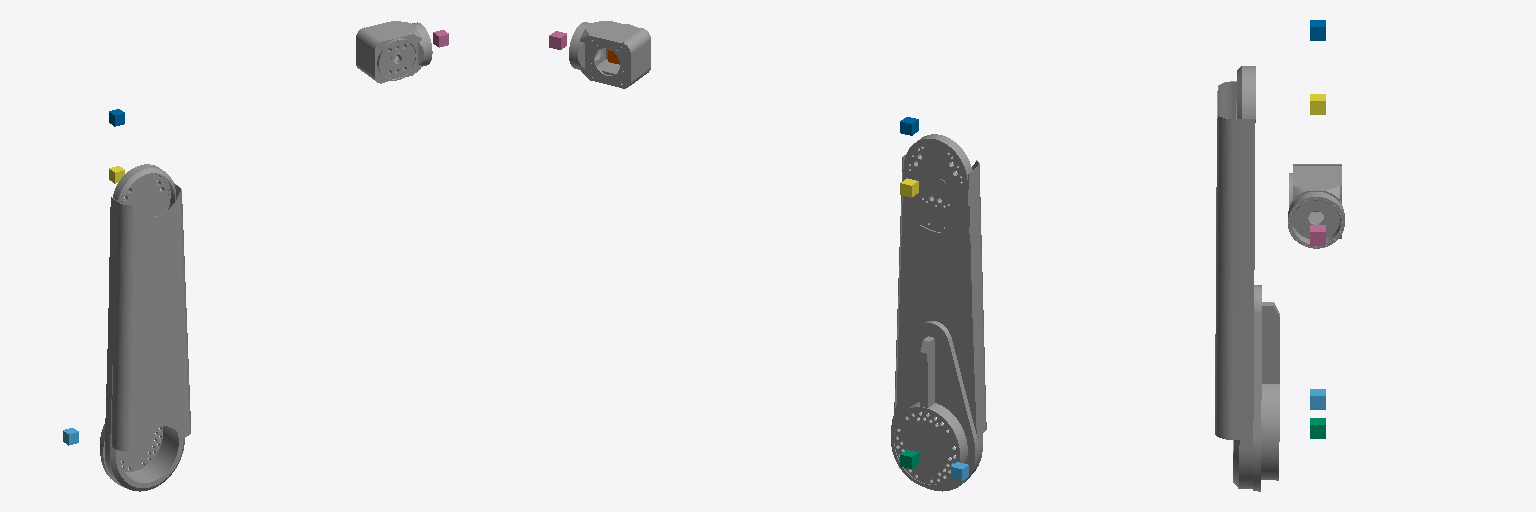
URDF robot description (SR80):
<?xml version="1.0"?>
<!-- created with Phobos 1.0.1 "Capricious Choutengan" -->
  <robot name="SR80">

    <link name="base_link">
     <!--  <inertial>
        <origin xyz="0 0 0" rpy="0 0 0"/>
        <mass value="0.001"/>
        <inertia ixx="0.001" ixy="0" ixz="0" iyy="0.001" iyz="0" izz="0.001"/>
      </inertial>-->
      <visual name="Part1">
        <origin xyz="0 0 0" rpy="0 0 0"/>
        <geometry>
          <mesh filename="package://sr80_description/meshes/dae/Part1.dae" scale="1.0 1.0 1.0"/>
        </geometry>
        <material name="Material"/>
      </visual>
      <visual name="Gear1">
        <origin xyz="0 0 0.2" rpy="0 0 0"/>
        <geometry>
          <mesh filename="package://sr80_description/meshes/dae/GearBox1.dae" scale="1.0 1.0 1.0"/>
        </geometry>
        <material name="Material"/>
      </visual>
      <collision name="Part1">
        <origin xyz="-0.00064 0 0.00217" rpy="0 0 0"/>
        <geometry>
          <box size="0.70858 0.59761 0.21675"/>
        </geometry>
      </collision>
    </link>

    <link name="L1">
      <inertial>
        <origin xyz="0 0 0" rpy="0 0 0"/>
        <mass value="0.001"/>
        <inertia ixx="0.001" ixy="0" ixz="0" iyy="0.001" iyz="0" izz="0.001"/>
      </inertial>
      <visual name="root">
        <origin xyz="0 0 0" rpy="0 0 0"/>
        <geometry>
          <box size="0.04 0.04 0.04"/>
        </geometry>
      </visual>
      <visual name="Part2">
        <origin xyz="0 0 -0.320" rpy="0 0 0"/>
        <geometry>
          <mesh filename="package://sr80_description/meshes/dae/Part2.dae" scale="1.0 1.0 1.0"/>
        </geometry>
        <material name="Material"/>
      </visual>
      <collision name="Part2">
        <origin xyz="0.00093 0 -0.00161" rpy="0 0 0"/>
        <geometry>
          <box size="0.59707 0.44995 0.50013"/>
        </geometry>
      </collision>
    </link>

    <link name="L2">
      <inertial>
        <origin xyz="0 0 0" rpy="0 0 0"/>
        <mass value="0.001"/>
        <inertia ixx="0.001" ixy="0" ixz="0" iyy="0.001" iyz="0" izz="0.001"/>
      </inertial>
      <visual name="A2">
        <origin xyz="0 0 0" rpy="0 0 0"/>
        <geometry>
          <box size="0.04 0.04 0.04"/>
        </geometry>
      </visual>
      <visual name="Part3">
        <origin xyz="0 0 0.1" rpy="0 0 1.5708"/>
        <geometry>
          <mesh filename="package://sr80_description/meshes/dae/Part3.dae" scale="1.1 1.0 1.0"/>
        </geometry>
        <material name="Material"/>
      </visual>
      <collision name="Part3">
        <origin xyz="0.0 0.6 0.26" rpy="0 0 1.5708"/>
        <geometry>
          <box size="1.19706 0.29514 0.16497"/>
        </geometry>
      </collision>
    </link>

    <link name="L3">
      <inertial>
        <origin xyz="0 0 0" rpy="0 0 0"/>
        <mass value="0.001"/>
        <inertia ixx="0.001" ixy="0" ixz="0" iyy="0.001" iyz="0" izz="0.001"/>
      </inertial>
      <visual name="A3">
        <origin xyz="0 0 0" rpy="0 0 0"/>
        <geometry>
          <box size="0.04 0.04 0.04"/>
        </geometry>
      </visual>
      <visual name="Part4">
        <origin xyz="0 0 0.15" rpy="0 0 1.5708"/>
        <geometry>
          <mesh filename="package://sr80_description/meshes/dae/Part4.dae" scale="1.0 1.0 1.0"/>
        </geometry>
        <material name="Material"/>
      </visual>
      <collision name="Part4">
        <origin xyz="0.00072 0.00263 -4e-05" rpy="-1.5708 0 -1.5708"/>
        <geometry>
          <box size="0.49911 0.352 0.29553"/>
        </geometry>
      </collision>
    </link>

    <link name="L4">
      <inertial>
        <origin xyz="0 0 0" rpy="0 0 0"/>
        <mass value="0.001"/>
        <inertia ixx="0.001" ixy="0" ixz="0" iyy="0.001" iyz="0" izz="0.001"/>
      </inertial>
      <visual name="A4">
        <origin xyz="0 0 0" rpy="0 0 0"/>
        <geometry>
          <box size="0.04 0.04 0.04"/>
        </geometry>
      </visual>
      <visual name="Part5">
        <origin xyz="0 0 0.25" rpy="0 0 -1.5708"/>
        <geometry>
          <mesh filename="package://sr80_description/meshes/dae/Part5.1.dae" scale="1.0 1.0 1.0"/>
        </geometry>
        <material name="Material"/>
      </visual>
      <visual name="Part6">
        <origin xyz="0 0 0.7" rpy="0 0 -1.5708"/>
        <geometry>
          <mesh filename="package://sr80_description/meshes/dae/Part6.dae" scale="1.0 1.0 1.0"/>
        </geometry>
        <material name="Material"/>
      </visual>
      <collision name="Part5">
        <origin xyz="0.0 0.0 0.2" rpy="0 0 -1.5708"/>
        <geometry>
          <box size="0.2 0.2 0.47458"/>
        </geometry>
      </collision>
      <collision name="Part6">
        <origin xyz="0.0 0.0 0.68514" rpy="0 0 -1.5708"/>
        <geometry>
          <box size="0.22 0.32349 0.46343"/>
        </geometry>
      </collision>      
    </link>

    <link name="L5">
      <inertial>
        <origin xyz="0 0 0" rpy="0 0 0"/>
        <mass value="0.001"/>
        <inertia ixx="0.001" ixy="0" ixz="0" iyy="0.001" iyz="0" izz="0.001"/>
      </inertial>
      <visual name="A5">
        <origin xyz="0 0 0" rpy="0 0 0"/>
        <geometry>
          <box size="0.04 0.04 0.04"/>
        </geometry>
      </visual>
      <visual name="Part7">
        <origin xyz="0 0 0.0675" rpy="3.14159 0 -1.5708"/>
        <geometry>
          <mesh filename="package://sr80_description/meshes/dae/Part7.dae" scale="1.0 1.0 1.0"/>
        </geometry>
        <material name="Material"/>
      </visual>
      <collision name="Part7">
        <origin xyz="0.00068 6e-05 0.00021" rpy="3.14159 0 -1.5708"/>
        <geometry>
          <box size="0.15311 0.21115 0.145"/>
        </geometry>
      </collision>
    </link>

    <link name="flange">
      <inertial>
        <origin xyz="0 0 0" rpy="0 0 0"/>
        <mass value="0.001"/>
        <inertia ixx="0.001" ixy="0" ixz="0" iyy="0.001" iyz="0" izz="0.001"/>
      </inertial>
      <visual name="A6">
        <origin xyz="0 0 0" rpy="0 0 0"/>
        <geometry>
          <box size="0.04 0.04 0.04"/>
        </geometry>
      </visual>
    </link>
    
    <joint name="J1" type="revolute">
      <origin xyz="0 0 0.63" rpy="0 0 0"/>
      <parent link="base_link"/>
      <child link="L1"/>
      <axis xyz="0 0 1.0"/>
      <limit lower="-3.14159" upper="3.14159" effort="2.76" velocity="3.39"/>
    </joint>

    <joint name="J2" type="revolute">
      <origin xyz="0.175 0 0" rpy="1.5708 0 0"/>
      <parent link="L1"/>
      <child link="L2"/>
      <axis xyz="0 0 1.0"/>
      <limit lower="-2.268928028" upper="1.047197551" effort="2.76" velocity="3.39"/>
    </joint>

    <joint name="J3" type="revolute">
      <origin xyz="0 0.905 0" rpy="0 0 0"/>
      <parent link="L2"/>
      <child link="L3"/>
      <axis xyz="0 0 1.0"/>
      <limit lower="-1.396263402" upper="2.879793266" effort="2.76" velocity="3.39"/>
    </joint>

    <joint name="J4" type="revolute">
      <origin xyz="0 0.206 0" rpy="0 1.5708 0"/>
      <parent link="L3"/>
      <child link="L4"/>
      <axis xyz="0 0 1.0"/>
      <limit lower="-3.14159" upper="3.14159" effort="2.76" velocity="3.39"/>
    </joint>

    <joint name="J5" type="revolute">
      <origin xyz="0 0 1.02" rpy="0 -1.5708 0"/>
      <parent link="L4"/>
      <child link="L5"/>
      <axis xyz="0 0 1.0"/>
      <limit lower="-2.181661565" upper="2.181661565" effort="2.76" velocity="3.39"/>
    </joint>

    <joint name="J6" type="revolute">
      <origin xyz="0.205 0 0" rpy="0 1.5708 0"/>
      <parent link="L5"/>
      <child link="flange"/>
      <axis xyz="0 0 1.0"/>
      <limit lower="-6.108652382" upper="6.108652382" effort="2.76" velocity="3.39"/>
    </joint>
     
    <!-- ROS-Industrial 'base' frame: base_link to robot world coordinate sytem transform -->
    <link name="base0" />
    <joint name="base_link-base" type="fixed">
        <origin rpy="0 0 0" xyz="0 0 0" />
        <parent link="base_link" />
        <child link="base0" />
    </joint>
    <!-- ROS-Industrial 'tool0' frame: all-zeros tool frame -->
    <link name="tool0" />
    <joint name="flange-tool0" type="fixed">
        <origin rpy="0 0 0" xyz="0 0 0" />
        <parent link="flange" />
        <child link="tool0" />
    </joint>

    <link name="world" />
    <joint name="world-base_link-fixed" type="fixed">
        <parent link="world" />
        <child link="base_link" />
    </joint>
    <!-- TCP -->
    <joint name="fixed_joint_tcp" type="fixed">
        <origin rpy="0 0 0" xyz="0 0 0" />
        <!-- tcp offset from last link -->
        <parent link="flange" />
        <child link="tcp" />
    </joint>
    <link name="tcp" />

    <material name="Material">
      <color rgba="0.64 0.64 0.64 1.0"/>
    </material>

  </robot>

--- Render facts (derived) ---
3 views of the same robot in one strip: view 1: azimuth 30°, elevation 25°; view 2: azimuth 150°, elevation 25°; view 3: azimuth 270°, elevation 25° (orthographic).
Model SR80 with 11 links and 10 joints (6 revolute, 4 fixed), rooted at world, posed all joints at 0.
Links seen in each view (by area): view 1: L2, L5; view 2: L2, L5; view 3: L2, L5.
Boxes of the visible links, bbox=[...] form: L2: bbox=[100, 164, 190, 491]; L5: bbox=[356, 21, 432, 83]; L2: bbox=[891, 134, 986, 491]; L5: bbox=[569, 21, 650, 88]; L2: bbox=[1215, 66, 1325, 491]; L5: bbox=[1288, 164, 1344, 248].
Bounding box of the posed robot: 1.44 × 0.3288 × 1.35 m (x, y, z).
2 mesh visuals loaded from 8 distinct referenced files (2 Collada DAE); not drawn: 6 (reference not matched to a file when rendering).